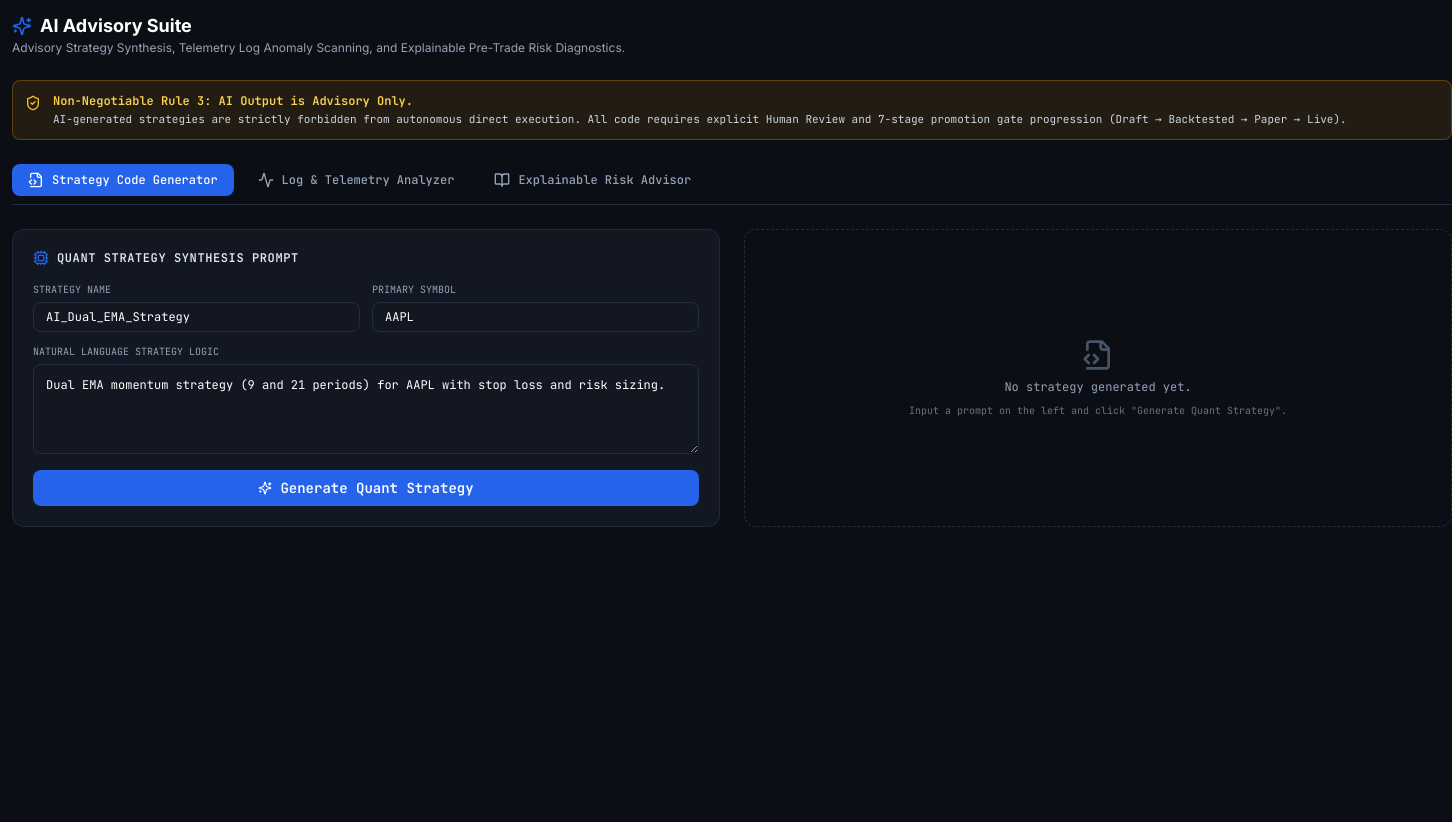
Test: AIAdvisorySuitePage › approves strategy code and marks approved by human
The width and height of the screenshot is (1452, 822).
Click the button "Generate Quant Strategy".
click(366, 488)  # box [33,470,699,506]
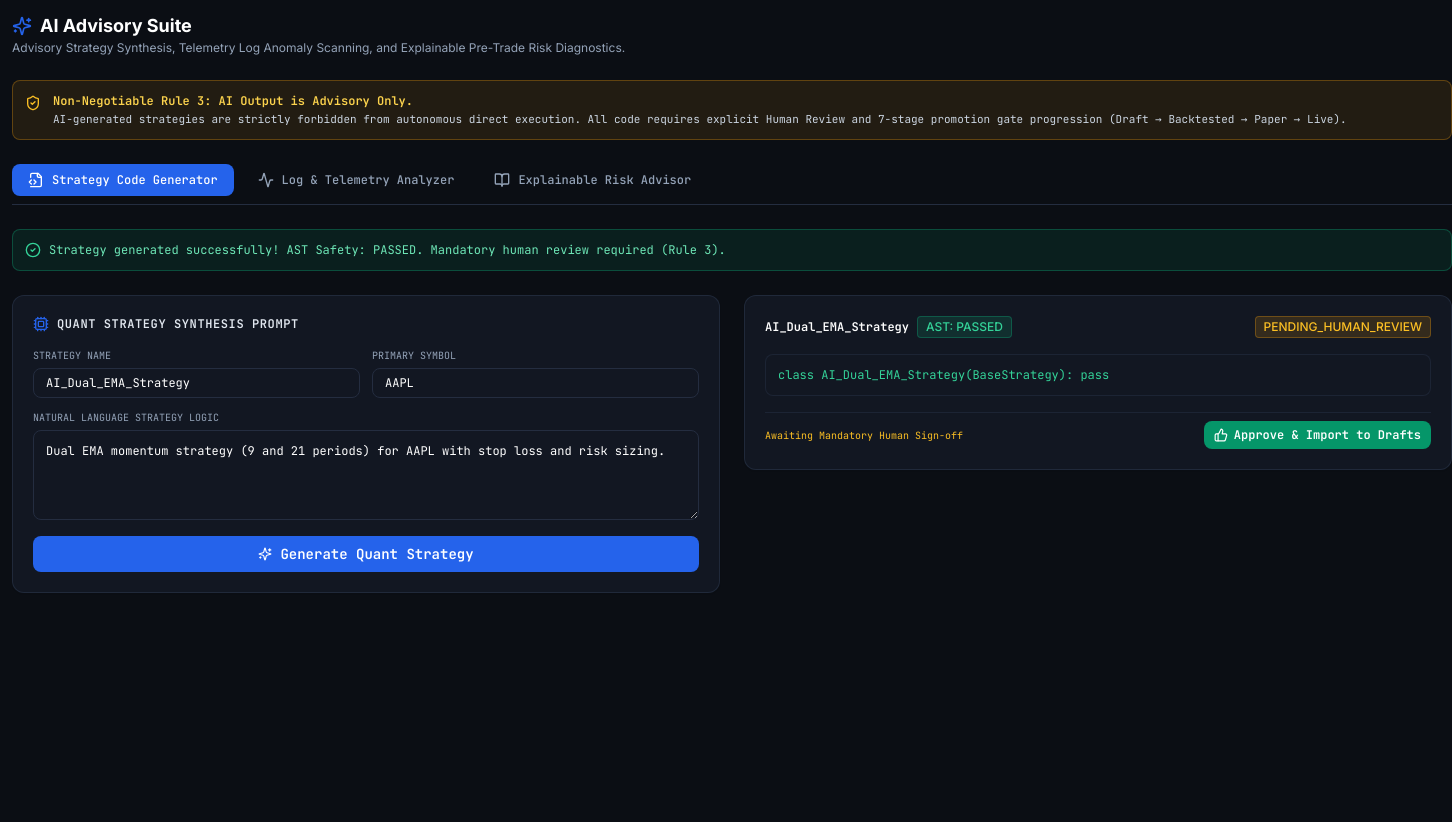
Check: the button "Approve & Import to Drafts" is shown
Click the button "Approve & Import to Drafts".
click(1317, 435)  # box [1204,421,1431,449]
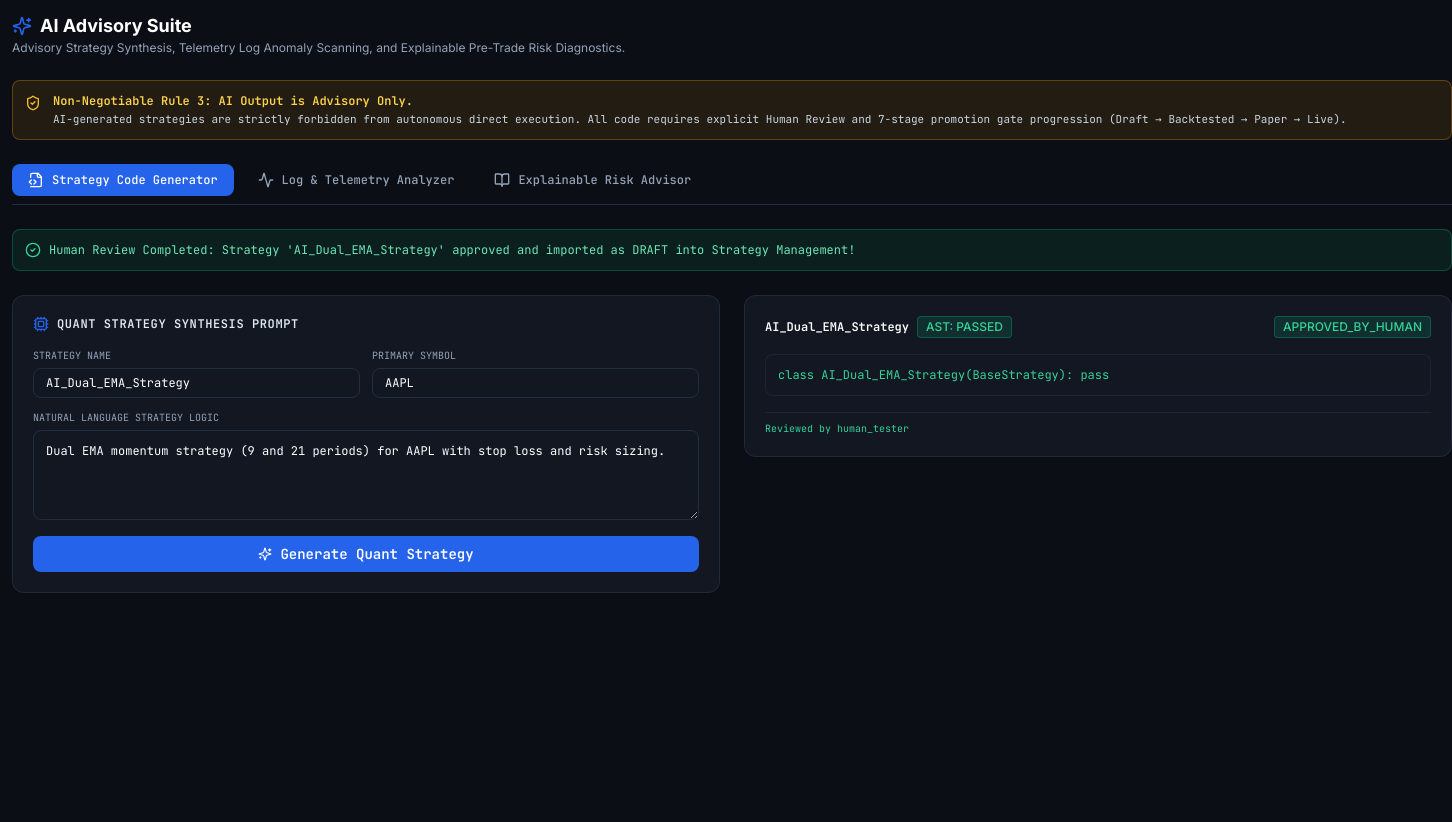
Check: the text "APPROVED_BY_HUMAN" is shown, box [1274,316,1431,338]
